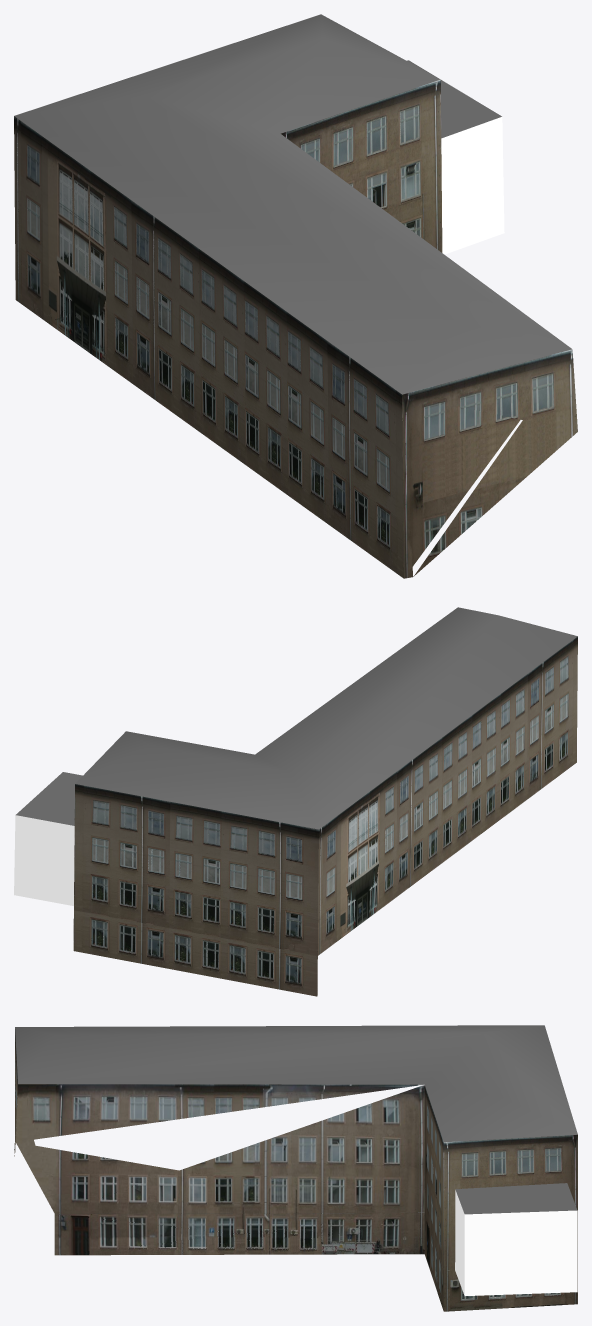
File: Toepler-Bau.gltf
3 renders of one model, top to bottom at view 1: azimuth 30°, elevation 25°; view 2: azimuth 150°, elevation 25°; view 3: azimuth 270°, elevation 25°, orthographic. The views are drawn at different scales.
Visible parts, largest first — view 1: Dach.1; view 2: Dach.1; view 3: Dach.1.
Part boxes in pixels (x1=…): Dach.1: x1=14, y1=14, x2=577, y2=578; Dach.1: x1=14, y1=607, x2=577, y2=996; Dach.1: x1=14, y1=1025, x2=577, y2=1311.
Size of the model in its own units: 38.09 by 23.23 by 62.14.
Materials: 11 (9 with a texture image).
